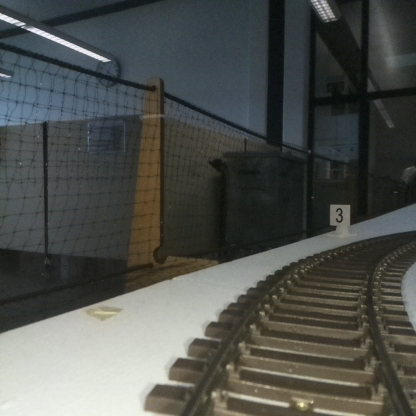white-stop-3: (330, 204, 350, 237)
